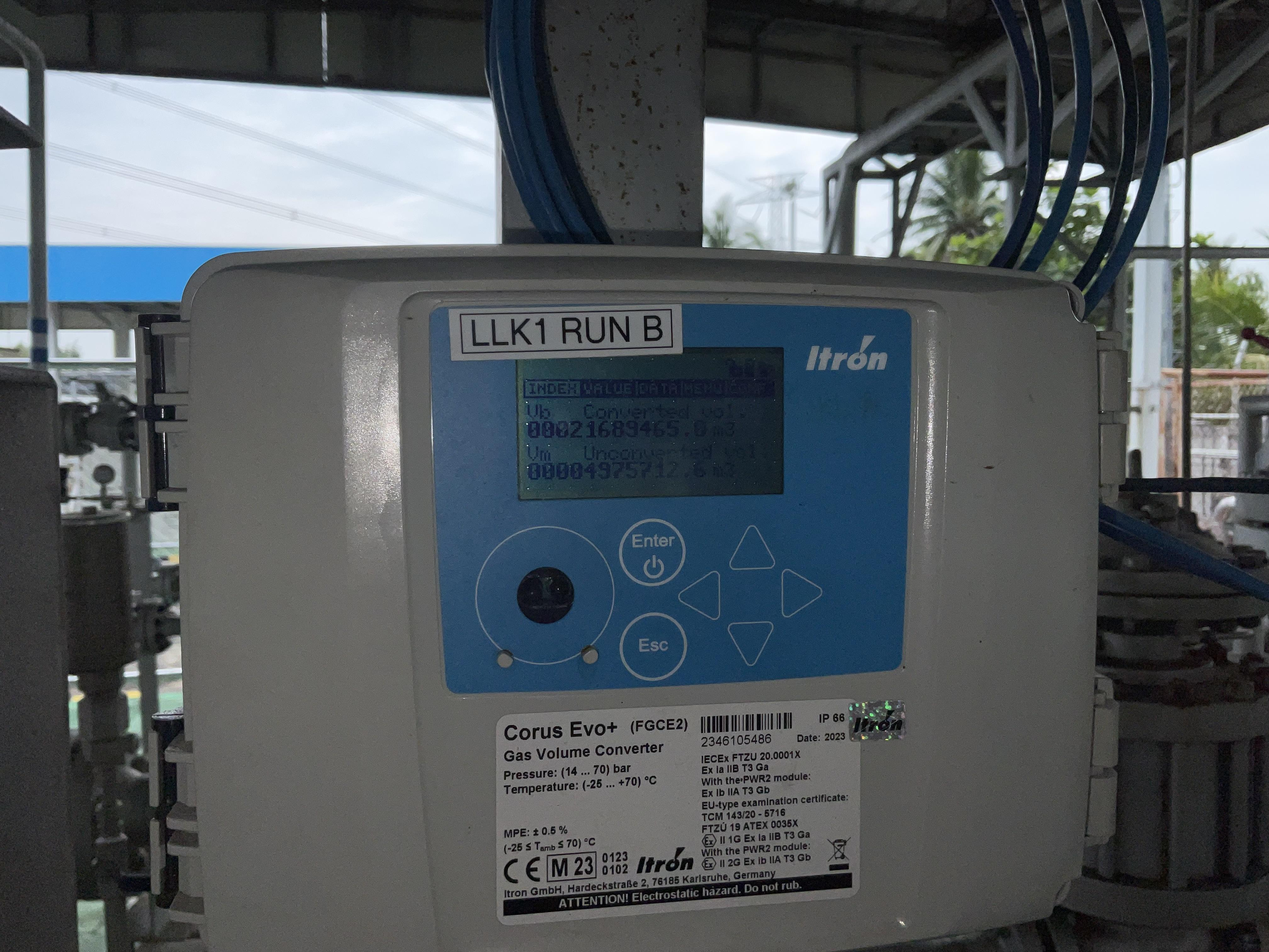digital_screen: (516, 344, 786, 500)
